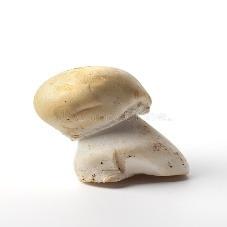mushroom: (33, 67, 191, 189)
